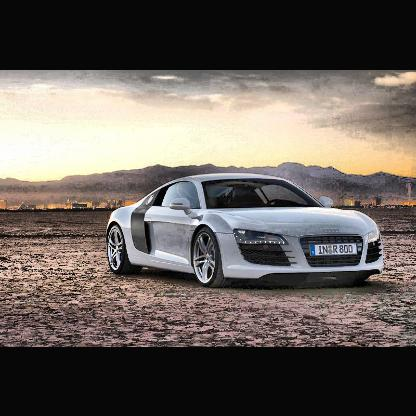Audi R8 Coupe 2012: (107, 172, 385, 290)
